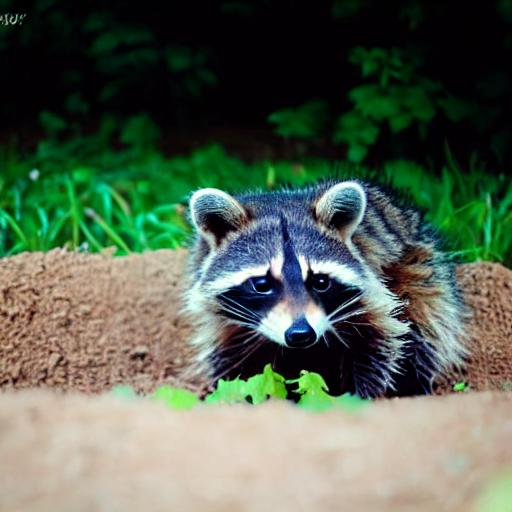raccoon: (170, 172, 481, 399)
